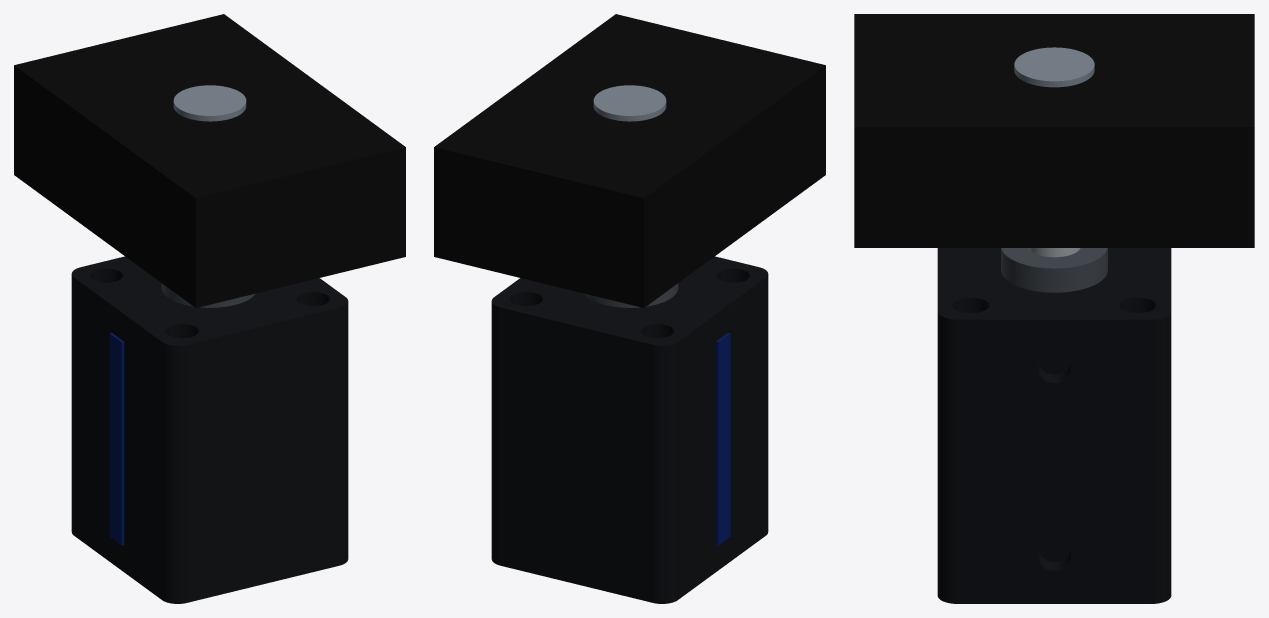
The model's file is stopper.glb.
3 renders of one model, left to right at view 1: azimuth 30°, elevation 25°; view 2: azimuth 150°, elevation 25°; view 3: azimuth 270°, elevation 25°, orthographic. The views are drawn at different scales.
Parts seen in each view (by area): view 1: cylinder, stopper, rod; view 2: cylinder, stopper, rod; view 3: stopper, cylinder, rod.
Boxes of the visible parts, <box> form: cylinder: <box>71,256,348,603</box>; stopper: <box>14,14,405,307</box>; rod: <box>173,85,246,121</box>; cylinder: <box>491,256,768,603</box>; stopper: <box>434,14,825,307</box>; rod: <box>593,85,666,121</box>; stopper: <box>854,14,1254,247</box>; cylinder: <box>937,248,1171,603</box>; rod: <box>1014,47,1094,257</box>.
Bounding box in the file's own units: 0.04 × 0.081 × 0.06.
